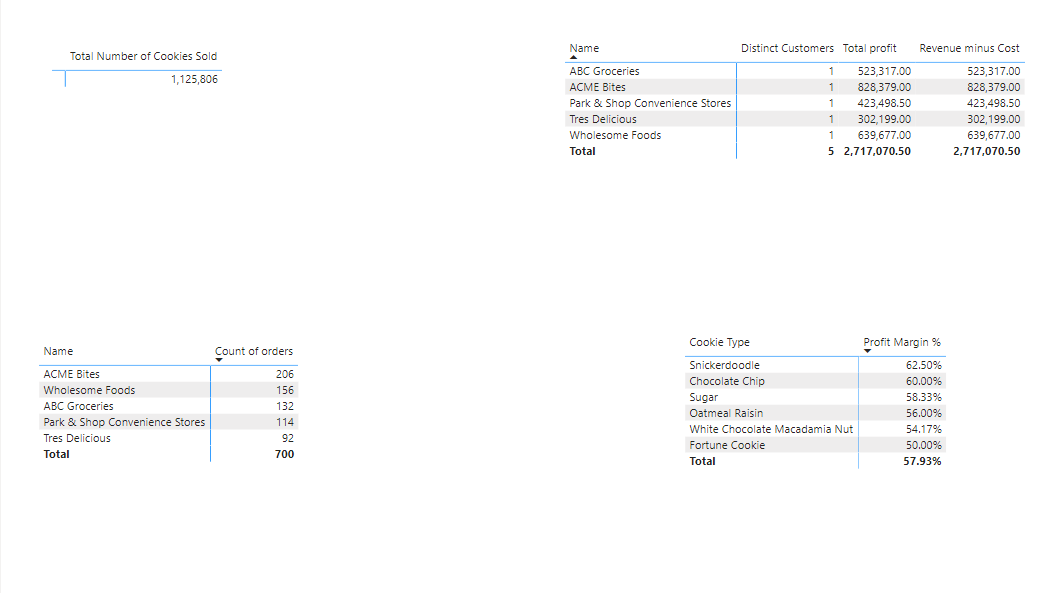

The dashboard page shown, as its layout file describes it:
{"tool":"powerbi","page":{"name":"Page 1","canvas":[1280,720],"ordinal":0},"visuals":[{"type":"pivotTable","fields":{"Values":["Orders.Total Number of Units Sold"]},"box":[56.1,57.5,358.1,192.4],"z":0},{"type":"pivotTable","fields":{"Values":["Orders.Count of orders"],"Rows":["Customers.Name"]},"box":[40.1,407.5,359.4,211.1],"z":1},{"type":"pivotTable","fields":{"Values":["Orders.Distinct Customers","Orders.Total profit","Orders.Revenue minus Cost"],"Rows":["Customers.Name"]},"box":[665.4,48.1,557.2,272.6],"z":2},{"type":"pivotTable","fields":{"Values":["Orders.Profit Margin %"],"Rows":["Cookie Types.Cookie Type"]},"box":[808.4,396.8,335.4,271.2],"z":3}]}

Visuals, with their boxes in screenshot pixels (x1, y1, x2, y2), scaled from the page's 1280x720 canvas onto the 1055x593 screenshot:
pivotTable - Orders.Total Number of Units Sold: detection(46, 47, 341, 206)
pivotTable - Orders.Count of orders x Customers.Name: detection(33, 336, 329, 509)
pivotTable - Orders.Distinct Customers x Orders.Total profit: detection(548, 40, 1008, 264)
pivotTable - Orders.Profit Margin % x Cookie Types.Cookie Type: detection(666, 327, 943, 550)
